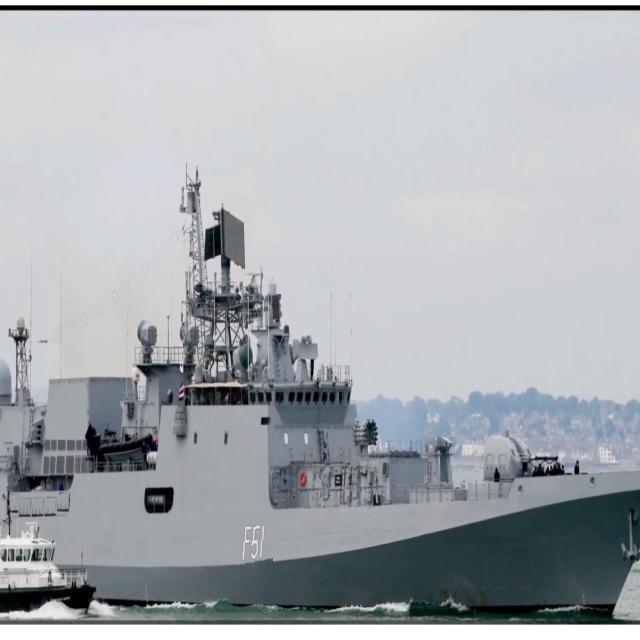OCR: (240, 519, 274, 571)
